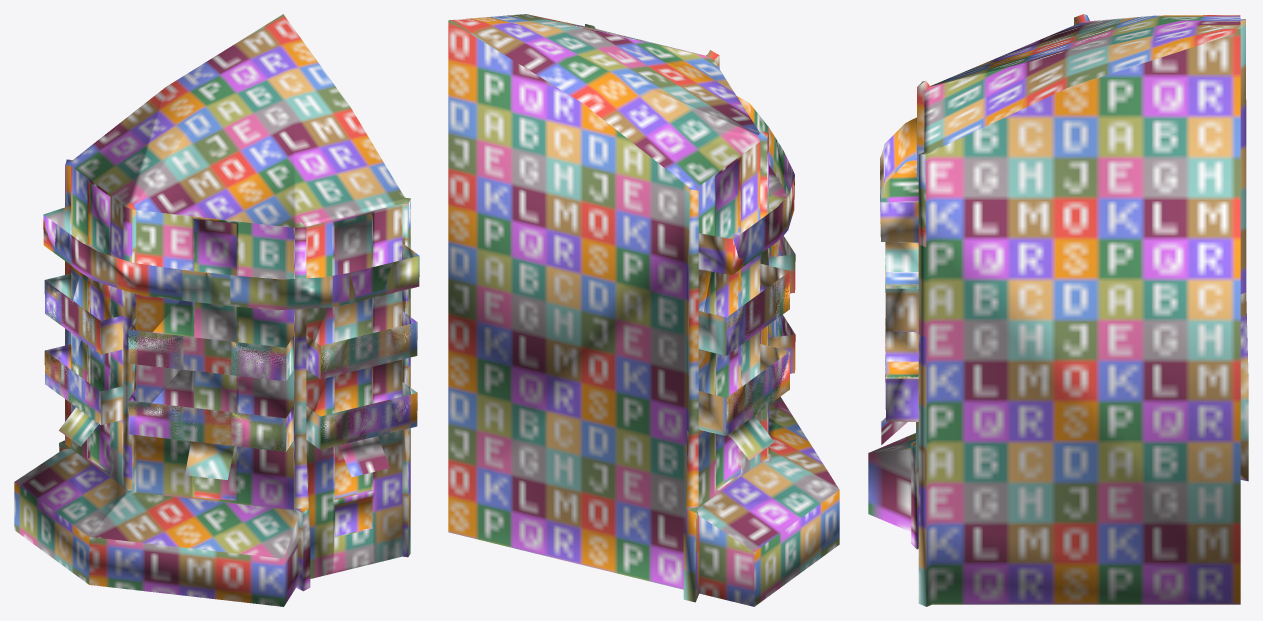
File: corner_building_03.obj
3 views of the same model, side by side, from view 1: azimuth 30°, elevation 25°; view 2: azimuth 150°, elevation 25°; view 3: azimuth 270°, elevation 25° (orthographic). The views are drawn at different scales.
Visible parts, largest first — view 1: Cube4; view 2: Cube4; view 3: Cube4.
Boxes of the visible parts, box(x1,y1,x2,y2) form: Cube4: box(14, 14, 419, 606); Cube4: box(448, 14, 839, 606); Cube4: box(868, 14, 1248, 606).
Bounding box in the file's own units: 25.35 × 40.47 × 24.04.
1 material, 1 textured.
